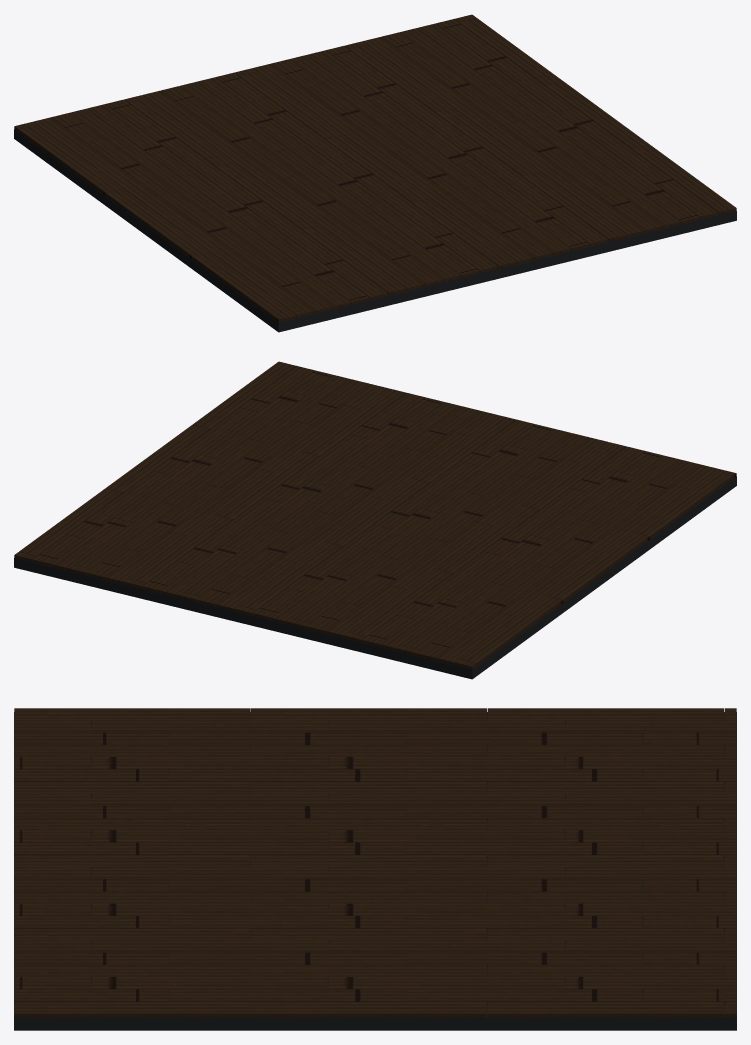
The model's file is floor-4m.glb.
The picture shows the model from 3 angles, top to bottom: view 1: azimuth 30°, elevation 25°; view 2: azimuth 150°, elevation 25°; view 3: azimuth 270°, elevation 25°; orthographic projection. The views are drawn at different scales.
Visible parts, largest first — view 1: Subfloor, Worn oak plank, Worn oak plank.001, Worn oak plank.002, Worn oak plank.084, Worn oak plank.036, Worn oak plank.048, Worn oak plank.012, Worn oak plank.072, Worn oak plank.024, Worn oak plank.060, Worn oak plank.096 (+80 smaller); view 2: Subfloor, Worn oak plank.001, Worn oak plank, Worn oak plank.002, Worn oak plank.012, Worn oak plank.022, Worn oak plank.009, Worn oak plank.030, Worn oak plank.037, Worn oak plank.041, Worn oak plank.046, Worn oak plank.053 (+80 smaller); view 3: Subfloor, Worn oak plank.096, Worn oak plank.097, Worn oak plank.098, Worn oak plank, Worn oak plank.010, Worn oak plank.022, Worn oak plank.024, Worn oak plank.036, Worn oak plank.046, Worn oak plank.058, Worn oak plank.060 (+80 smaller).
Boxes of the visible parts, box(x1,y1,x2,y2) form: Subfloor: box(14, 129, 736, 332); Worn oak plank: box(192, 252, 296, 322); Worn oak plank.001: box(105, 188, 209, 258); Worn oak plank.002: box(19, 125, 122, 195); Worn oak plank.084: box(577, 158, 681, 228); Worn oak plank.036: box(357, 212, 461, 282); Worn oak plank.048: box(412, 198, 516, 268); Worn oak plank.012: box(247, 239, 351, 309); Worn oak plank.072: box(522, 171, 626, 241); Worn oak plank.024: box(302, 225, 406, 295); Worn oak plank.060: box(467, 185, 571, 255); Worn oak plank.096: box(632, 145, 736, 215); Subfloor: box(14, 476, 736, 679); Worn oak plank.001: box(545, 532, 649, 602); Worn oak plank: box(632, 469, 736, 539); Worn oak plank.002: box(459, 596, 563, 665); Worn oak plank.012: box(577, 455, 681, 523); Worn oak plank.022: box(397, 551, 501, 619); Worn oak plank.009: box(539, 501, 642, 569); Worn oak plank.030: box(389, 522, 493, 589); Worn oak plank.037: box(380, 492, 484, 559); Worn oak plank.041: box(420, 445, 524, 512); Worn oak plank.046: box(287, 524, 391, 592); Worn oak plank.053: box(365, 431, 469, 499); Subfloor: box(14, 712, 736, 1030); Worn oak plank.096: box(14, 1001, 250, 1017); Worn oak plank.097: box(251, 1001, 487, 1017); Worn oak plank.098: box(488, 1001, 723, 1017); Worn oak plank: box(14, 708, 250, 724); Worn oak plank.010: box(406, 732, 642, 748); Worn oak plank.022: box(406, 769, 642, 785); Worn oak plank.024: box(14, 781, 250, 797); Worn oak plank.036: box(14, 818, 250, 834); Worn oak plank.046: box(406, 842, 642, 858); Worn oak plank.058: box(406, 879, 642, 895); Worn oak plank.060: box(14, 891, 250, 907).
Size of the model in its own units: 4 by 0.105 by 4.
Materials: 2 (1 with a texture image).
